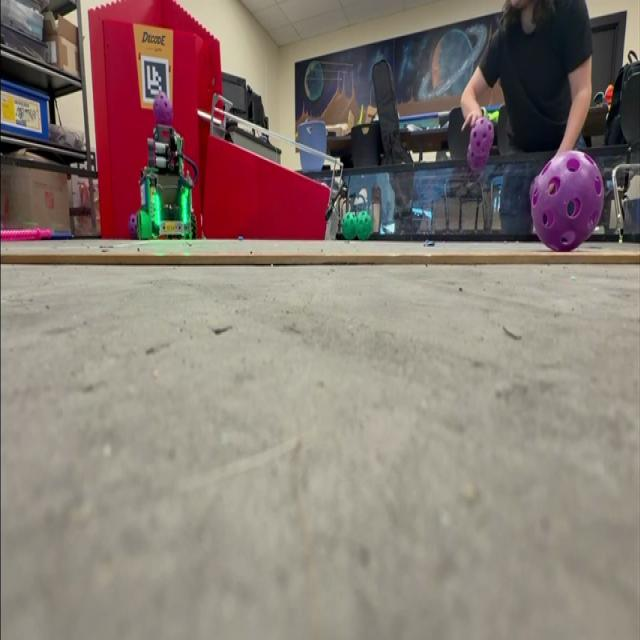artifact_green: (356, 211, 372, 241), (342, 212, 356, 239), (191, 214, 197, 238)
artifact_purple: (531, 151, 604, 251), (467, 116, 494, 171), (153, 92, 173, 126), (530, 176, 538, 202), (129, 214, 137, 238)
